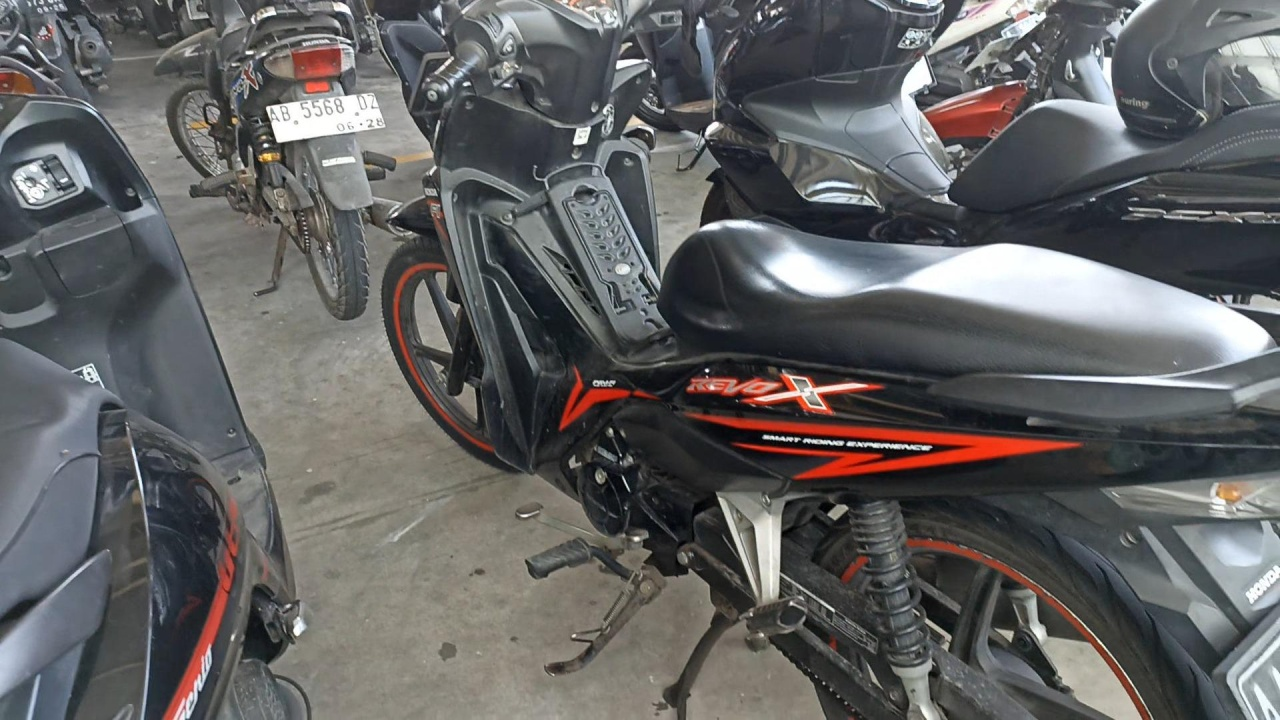plate: (266, 92, 386, 143)
